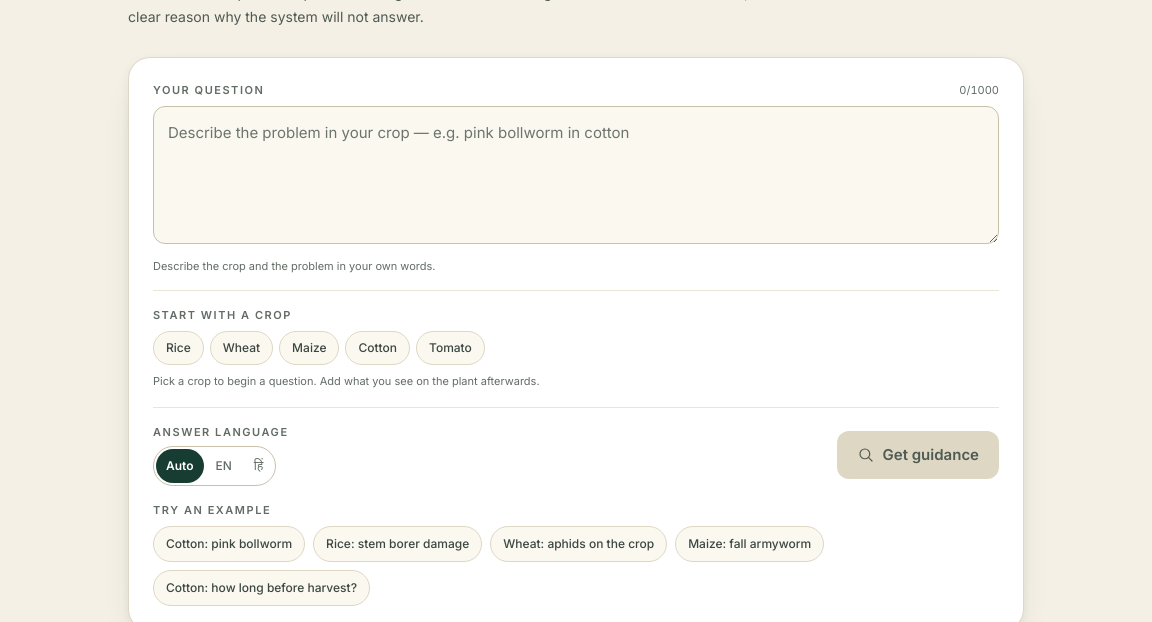
Scenario: AdvisoryAssistant › shows an unreachable notice, and no decision badge, when the network fails
Type "How do I control pink bollworm in cotton?" into the text box labelled "Your question" at (576, 175), box [153,106,999,244]
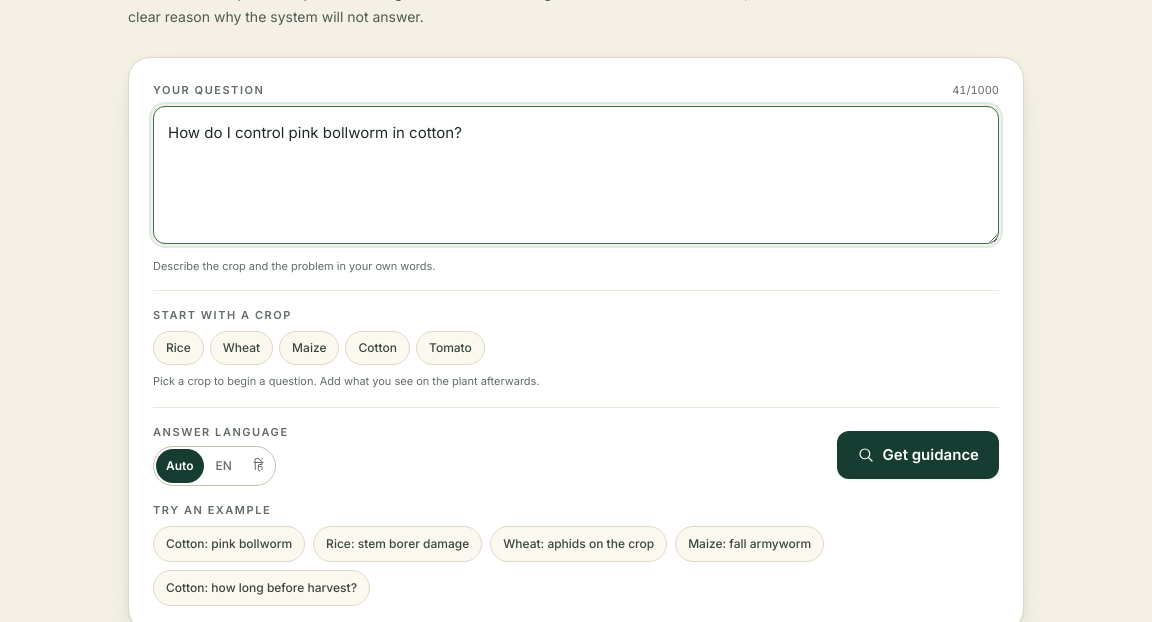
Click the button "Get guidance" at (918, 455), box [837,431,999,479]
(page scrolled)
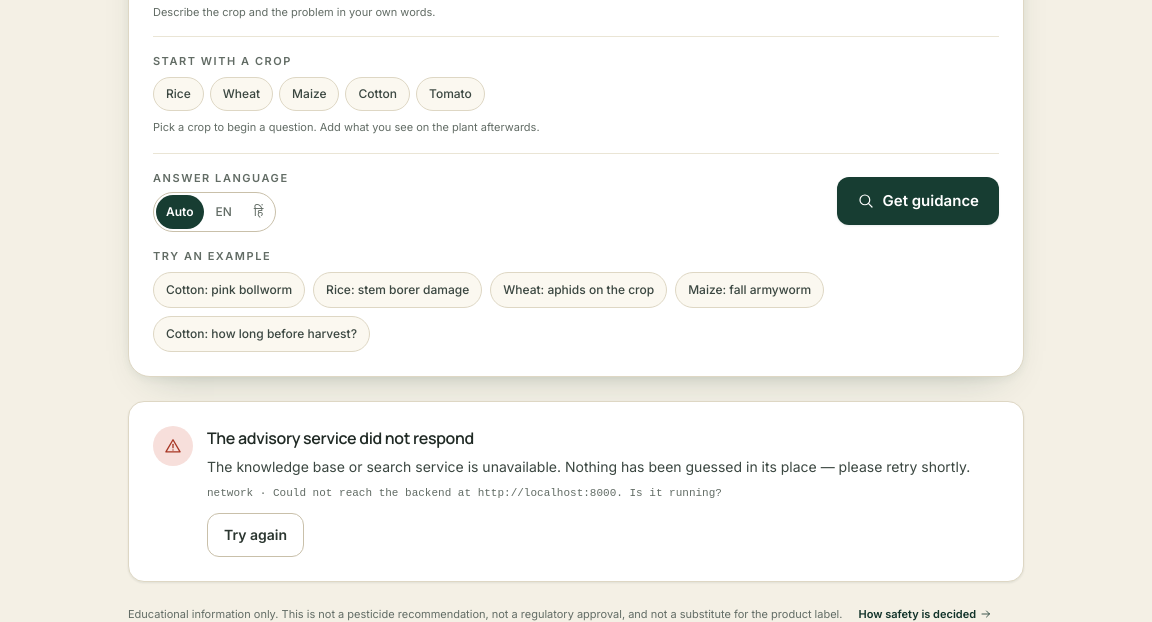
Expected: the heading "The advisory service did not respond" is shown, [207,427,474,449]
Expected: the text "unavailable" is shown, [207,458,970,475]
Expected: the button "Try again" is shown, [207,513,304,557]
